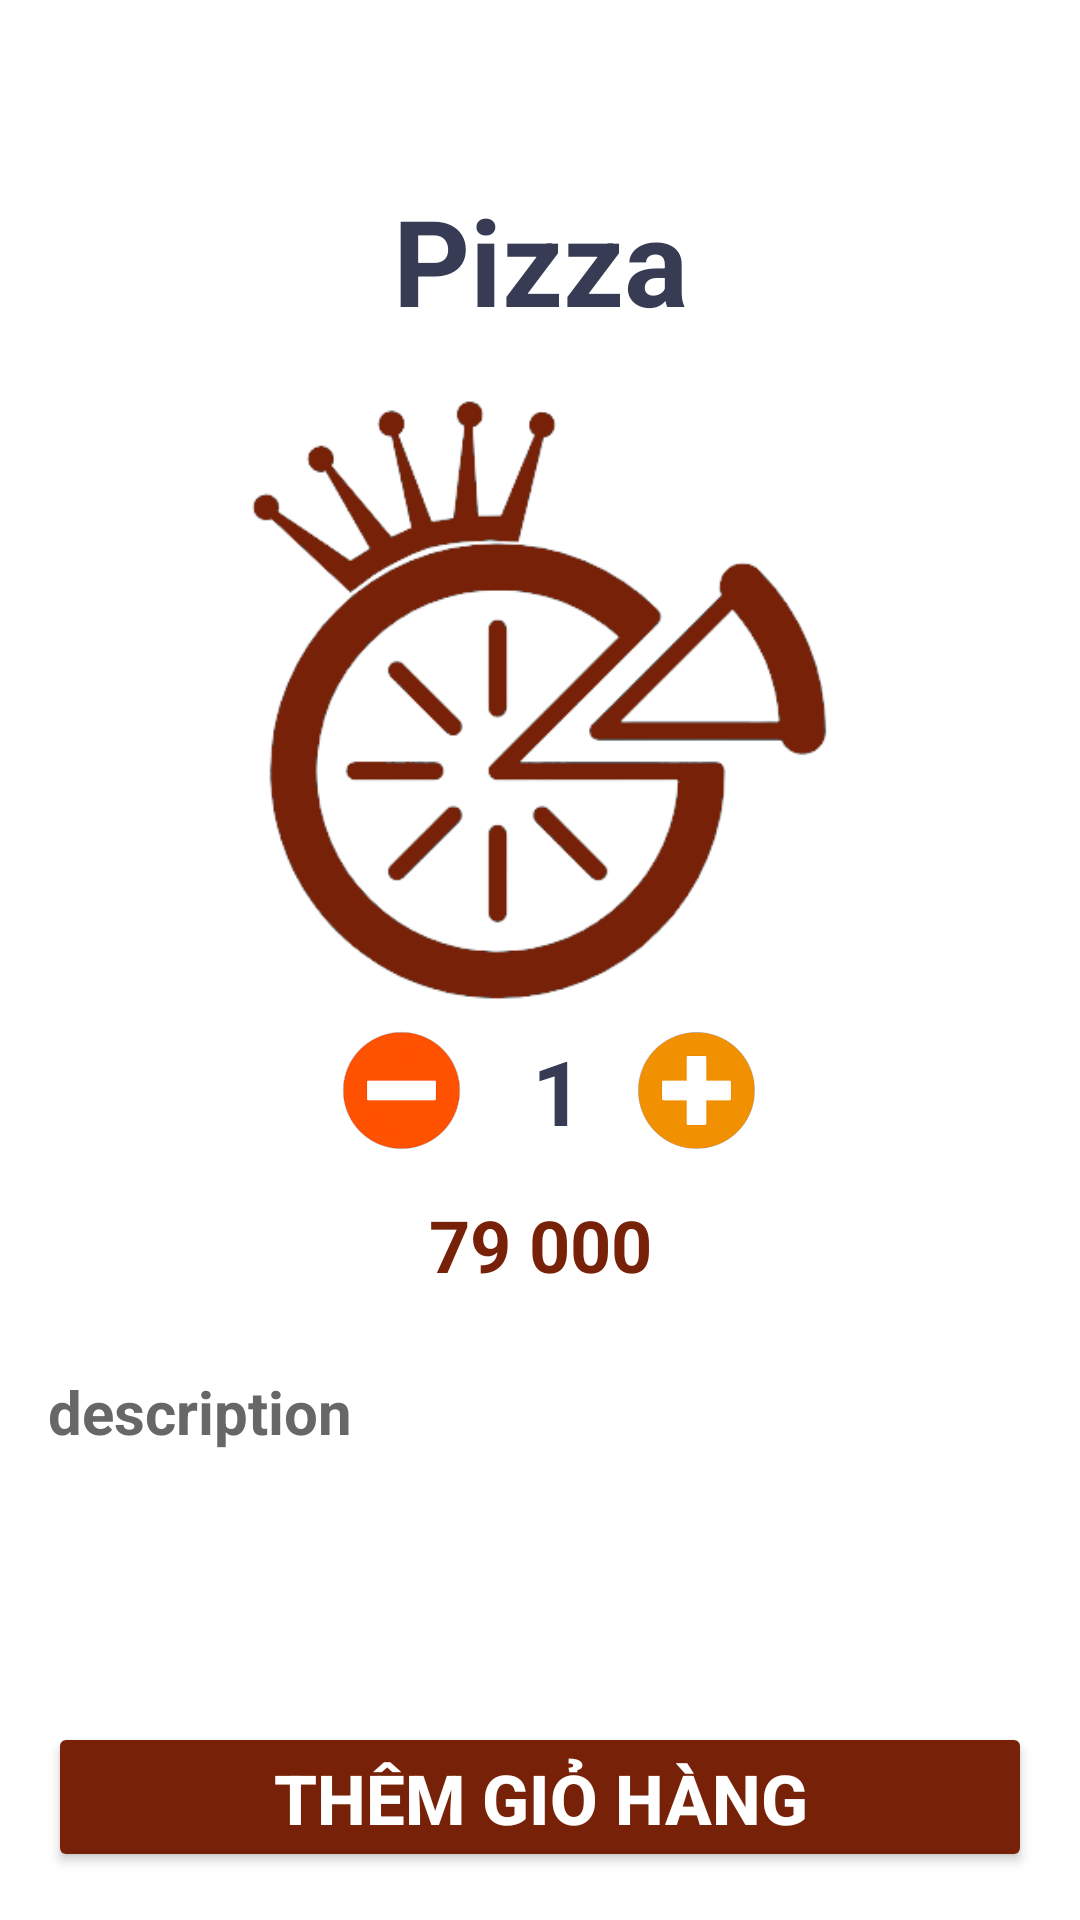

Where icons sit on this 1080*1920 app screen, as [left=x1, top=y1, right=x2, bottom=y2]:
minus: [left=343, top=1032, right=460, bottom=1149]
plus: [left=638, top=1032, right=755, bottom=1149]
